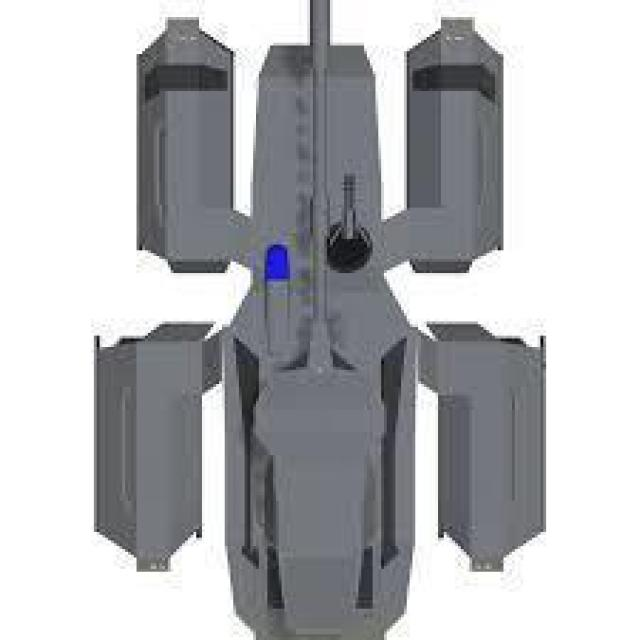Tanks: (90, 7, 553, 633)
